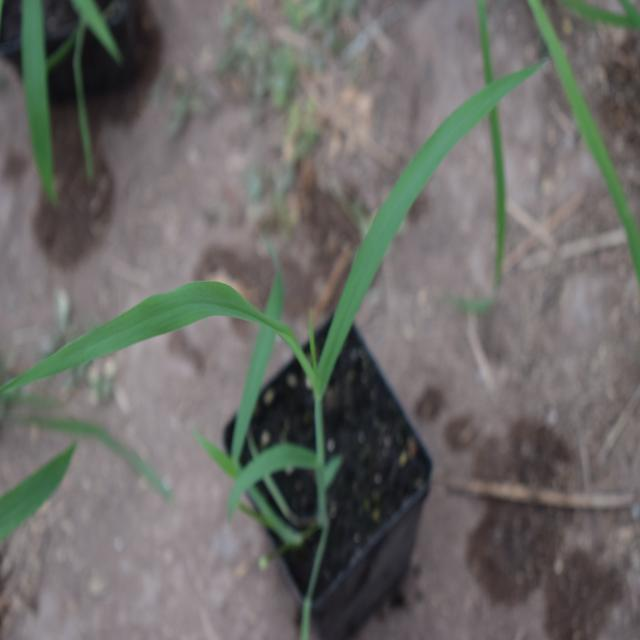crabgrass: (56, 104, 464, 521)
